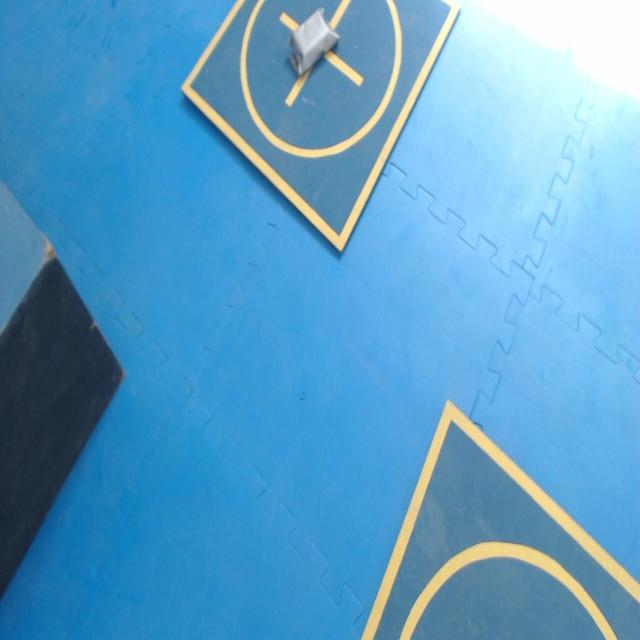direita: (288, 8, 339, 75)
